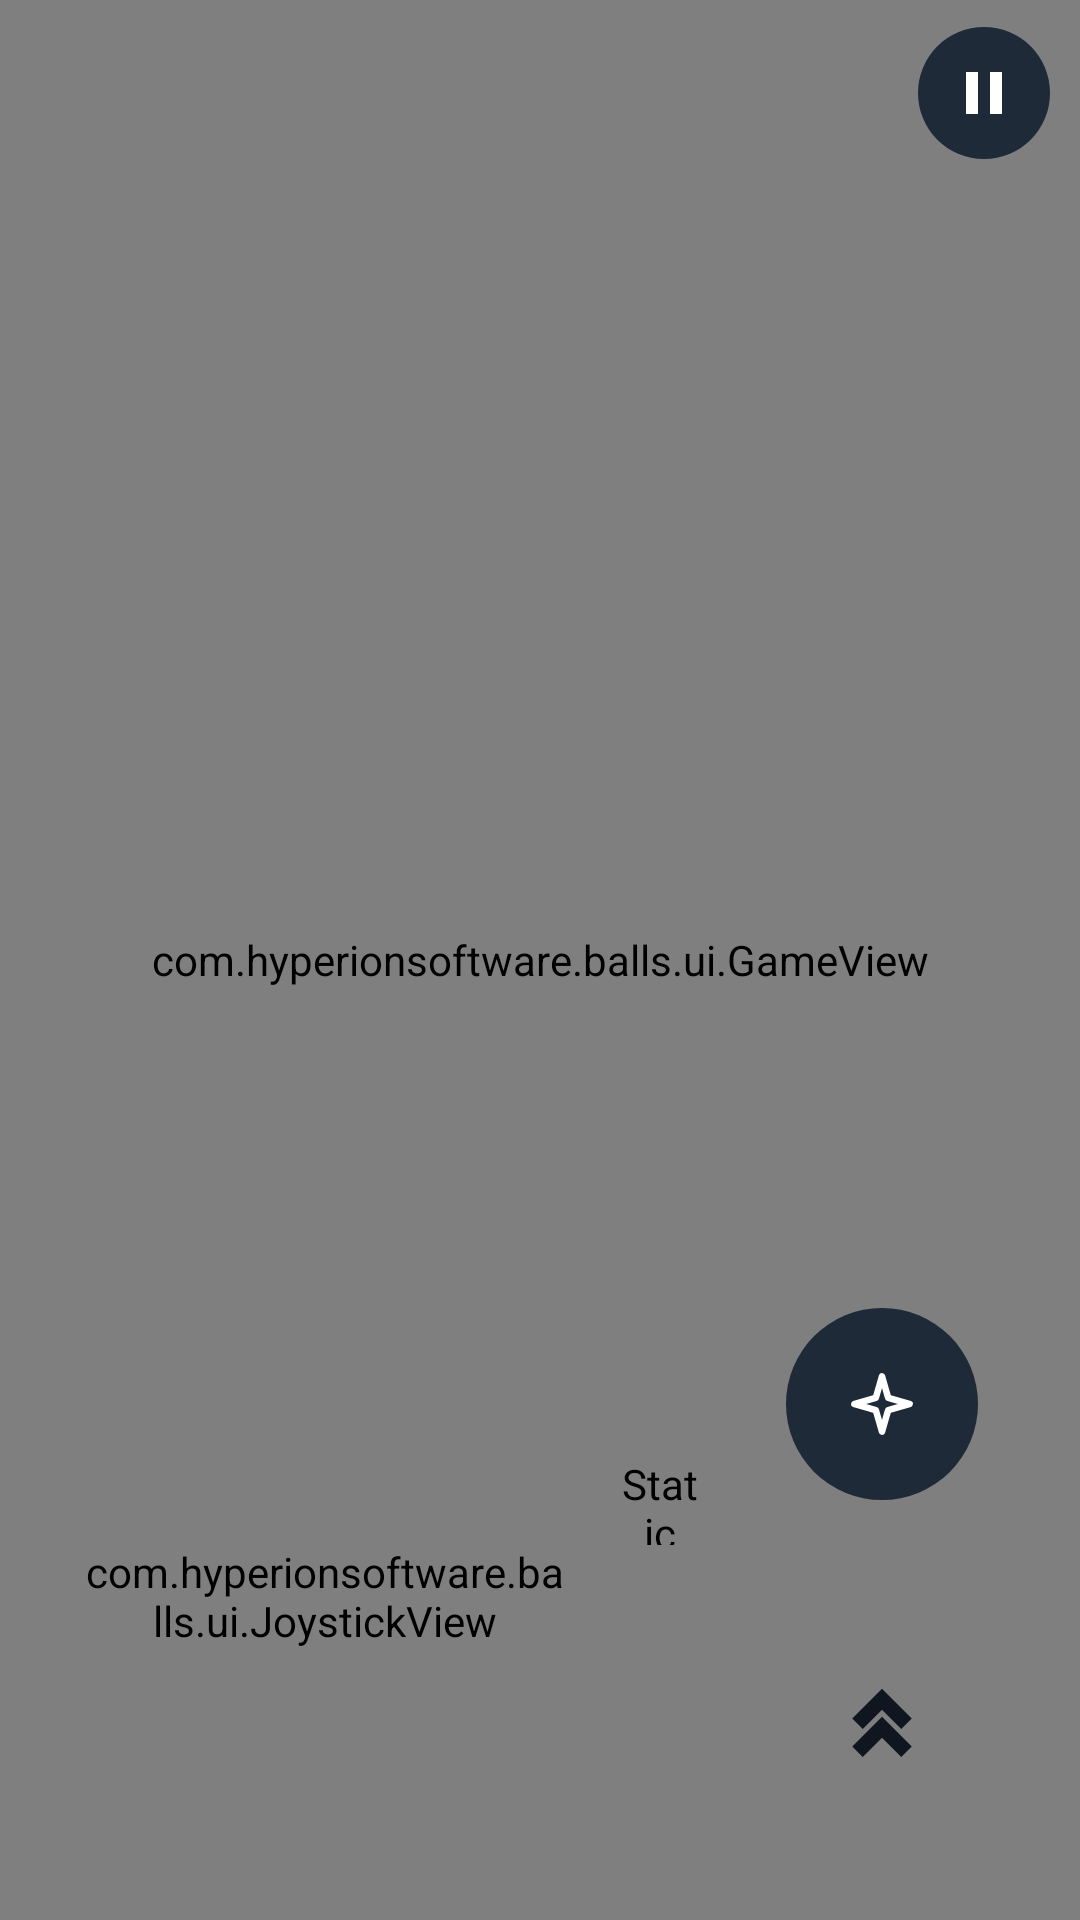

Screen size 1080px x 1920px. Icon name, then its box in pixels as Rect(x1, y1, x2, y2):
Paused: Rect(918, 27, 1050, 159)
Speed boost: Rect(852, 1689, 912, 1757)
